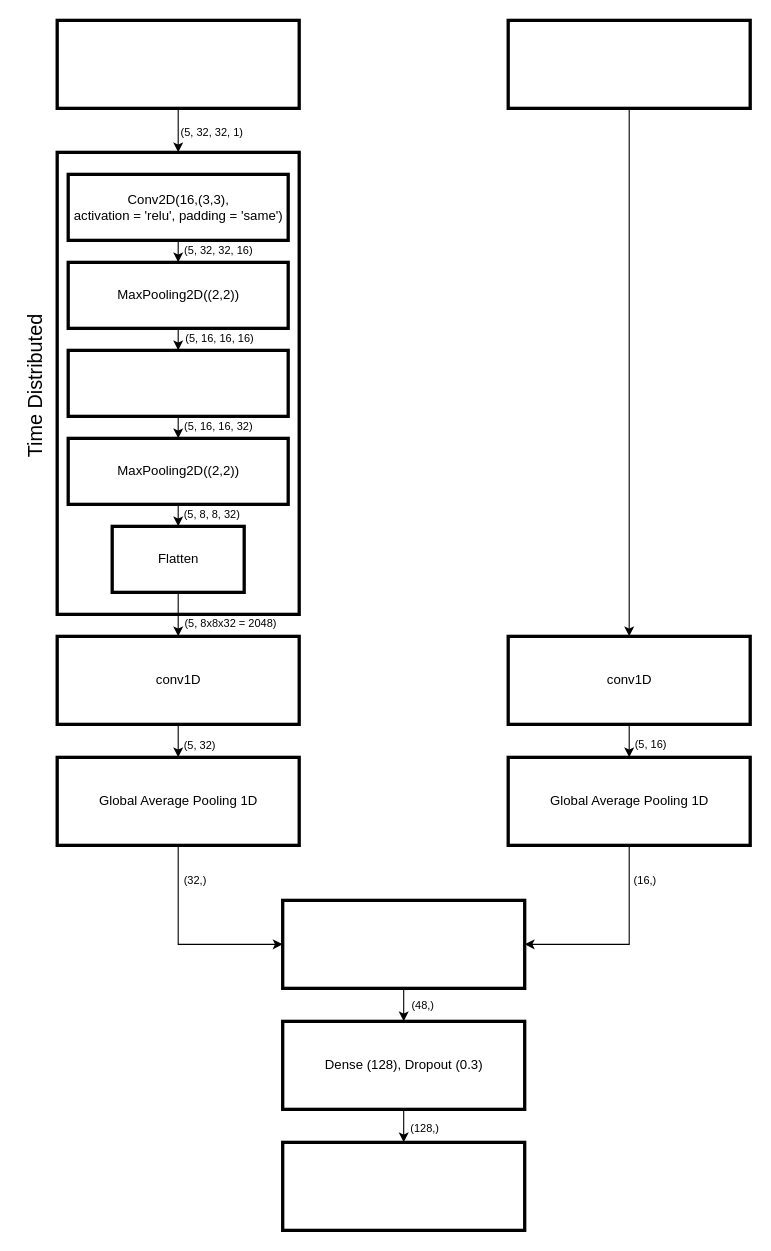
This 771x1251 diagram has some shape labels left out. The box of each missing label's shape, as (x1, y1, x2, y2) in pixels:
Concatenate (): (280, 898, 526, 989)
Conv2D(32,(3,3), activation = 'relu', padding = 'same'): (66, 348, 289, 417)
Dense (1, Sigmoid): (280, 1140, 526, 1231)
HandCrafted Features (5 x 7): (506, 18, 751, 109)
Thermal Frame Sequence (32 x 32 x 5): (55, 18, 300, 109)
